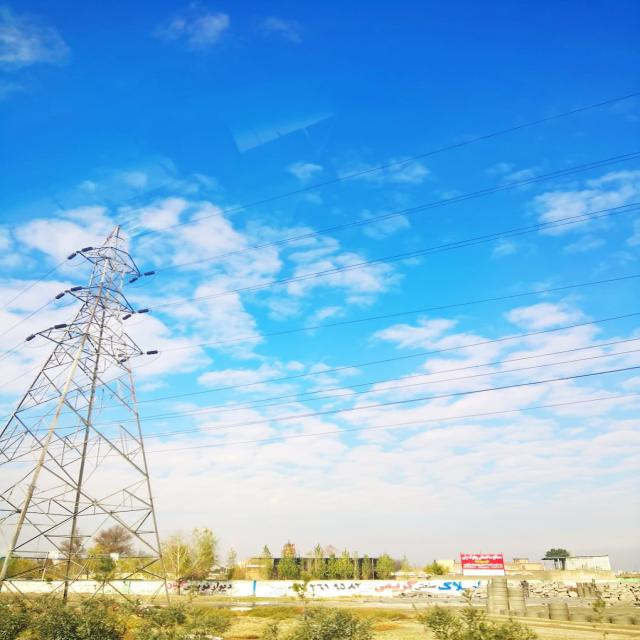transmission tower: (1, 192, 300, 573)
